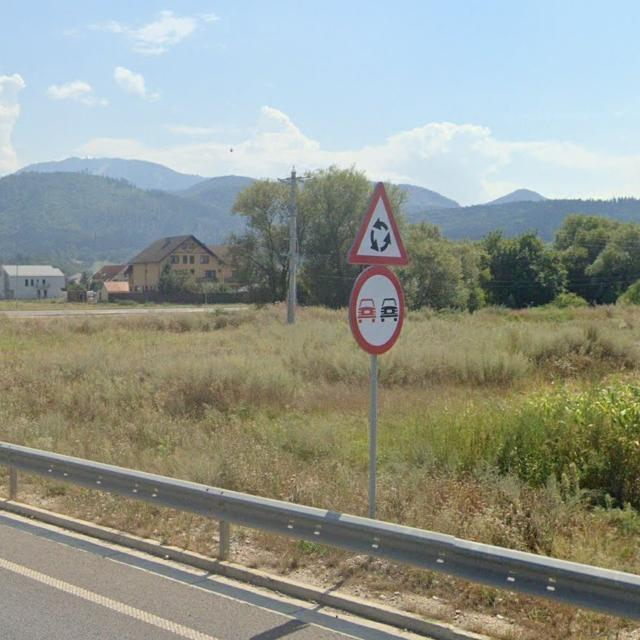forb_overtake: (346, 266, 407, 358)
